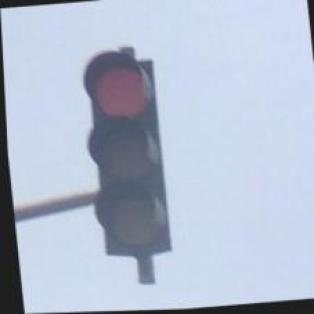Semoforo Rojo: (79, 50, 170, 257)
